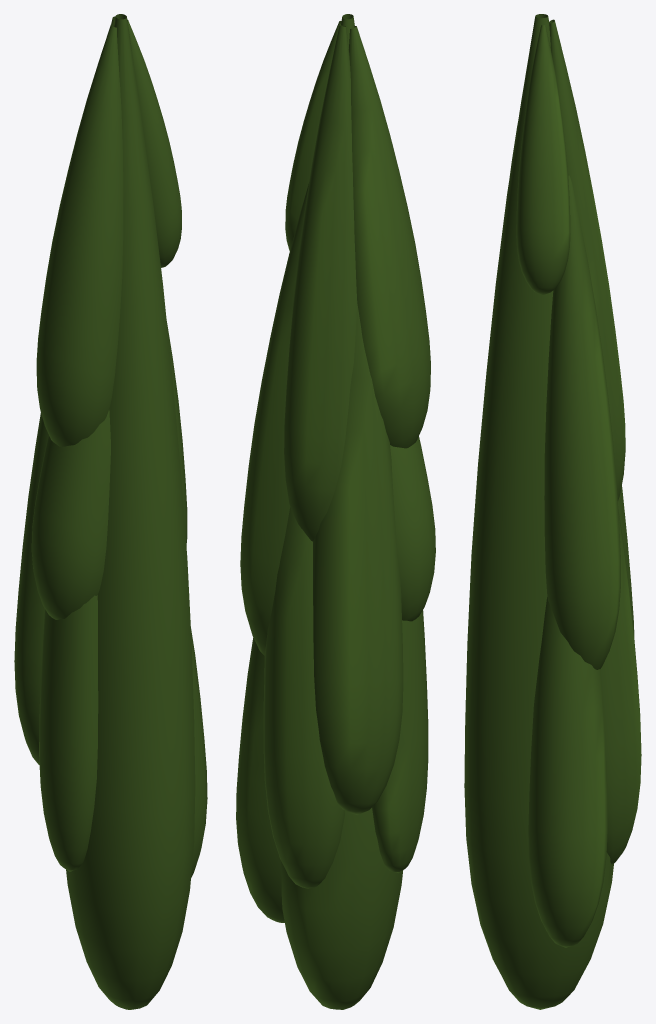
File: Tether Gut.fbx
3 views of the same model, side by side, from view 1: azimuth 30°, elevation 25°; view 2: azimuth 150°, elevation 25°; view 3: azimuth 270°, elevation 25° (orthographic).
Parts seen in each view (by area): view 1: polySurface10; view 2: polySurface10; view 3: polySurface10.
Boxes of the visible parts, x1,y1,x2,y2 form: polySurface10: (14, 14, 207, 1009); polySurface10: (236, 14, 435, 1009); polySurface10: (464, 14, 641, 1009).
Size of the model in its own units: 17.8 by 95.55 by 15.49.
